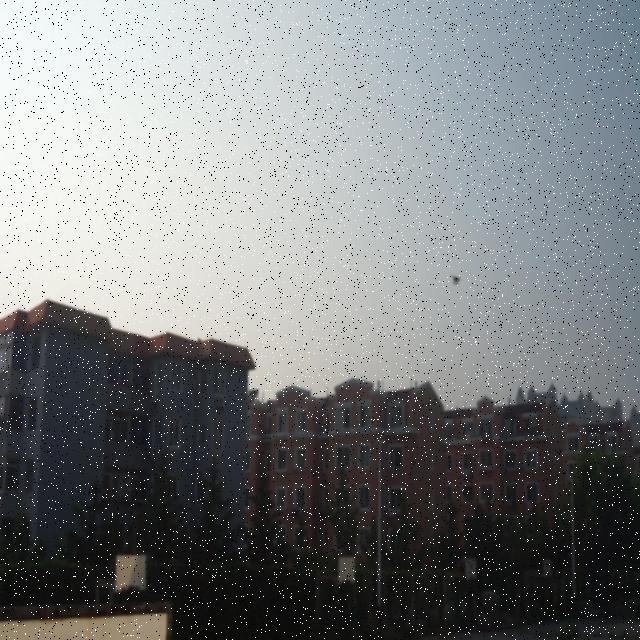UAV: (451, 274, 461, 287)
